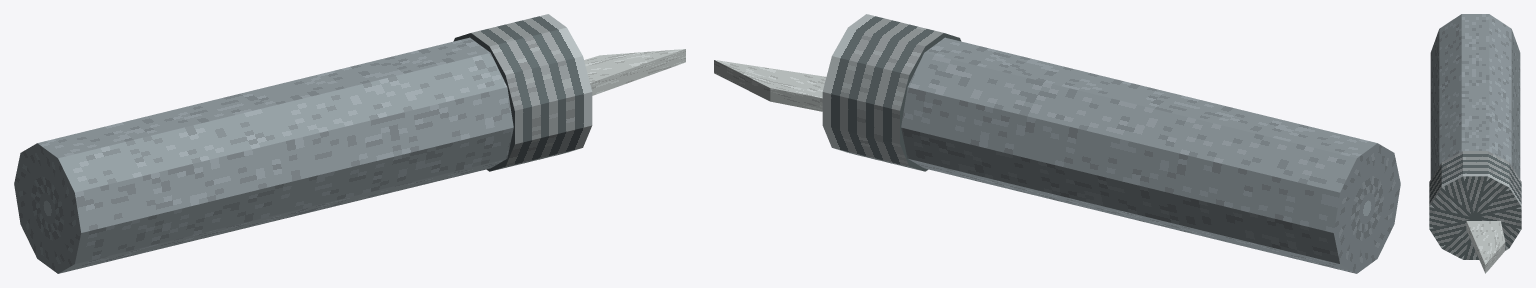
Rendered from xacto.glb.
3 renders of one model, left to right at view 1: azimuth 30°, elevation 25°; view 2: azimuth 150°, elevation 25°; view 3: azimuth 270°, elevation 25°, orthographic. The views are drawn at different scales.
Parts seen in each view (by area): view 1: block_precision grip, block_knurled collar, block_craft blade; view 2: block_precision grip, block_knurled collar, block_craft blade; view 3: block_precision grip, block_knurled collar, block_craft blade.
Boxes of the visible parts, x1=… form: block_precision grip: x1=14, y1=37, x2=513, y2=273; block_knurled collar: x1=453, y1=14, x2=592, y2=171; block_craft blade: x1=584, y1=49, x2=685, y2=95; block_precision grip: x1=901, y1=37, x2=1400, y2=273; block_knurled collar: x1=822, y1=14, x2=961, y2=171; block_craft blade: x1=714, y1=60, x2=826, y2=111; block_precision grip: x1=1430, y1=14, x2=1520, y2=178; block_knurled collar: x1=1429, y1=151, x2=1521, y2=259; block_craft blade: x1=1466, y1=221, x2=1505, y2=273.
Size of the model in its own units: 0.1 by 0.0185 by 0.0185.
Materials: 1 (1 with a texture image).
